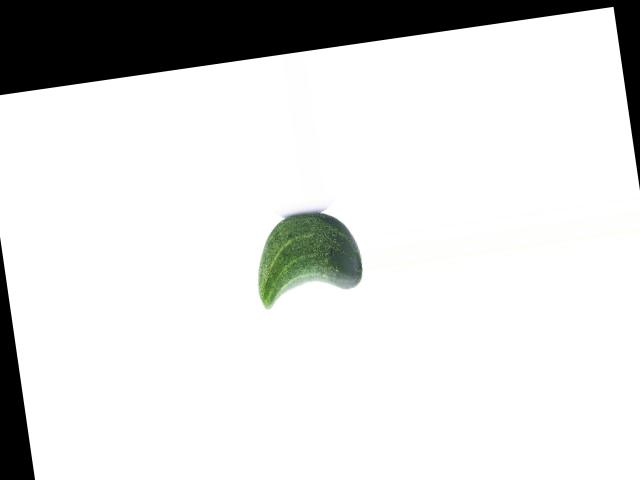cucumber: (247, 206, 366, 309)
